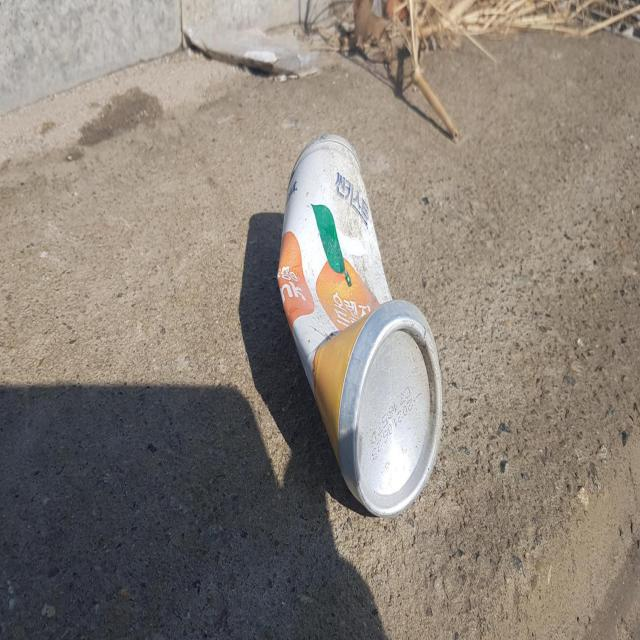can: (277, 133, 443, 516)
